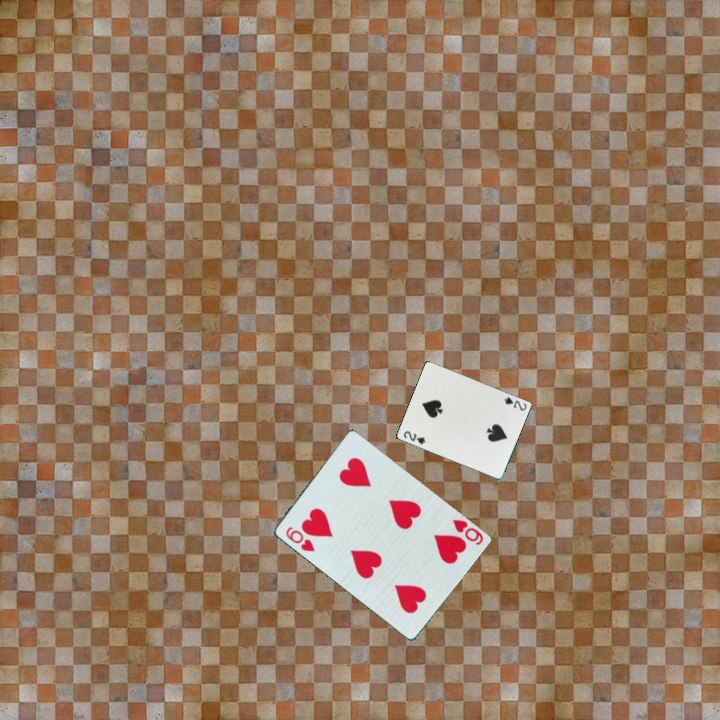2s: (501, 394, 529, 414), (400, 428, 428, 447)
6h: (449, 516, 486, 548), (282, 523, 318, 555)
